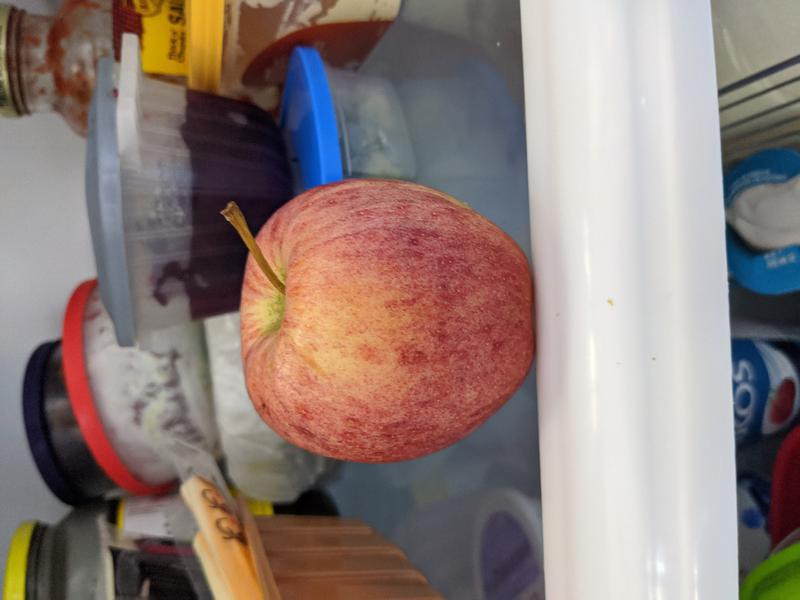red apple: (235, 176, 539, 464)
